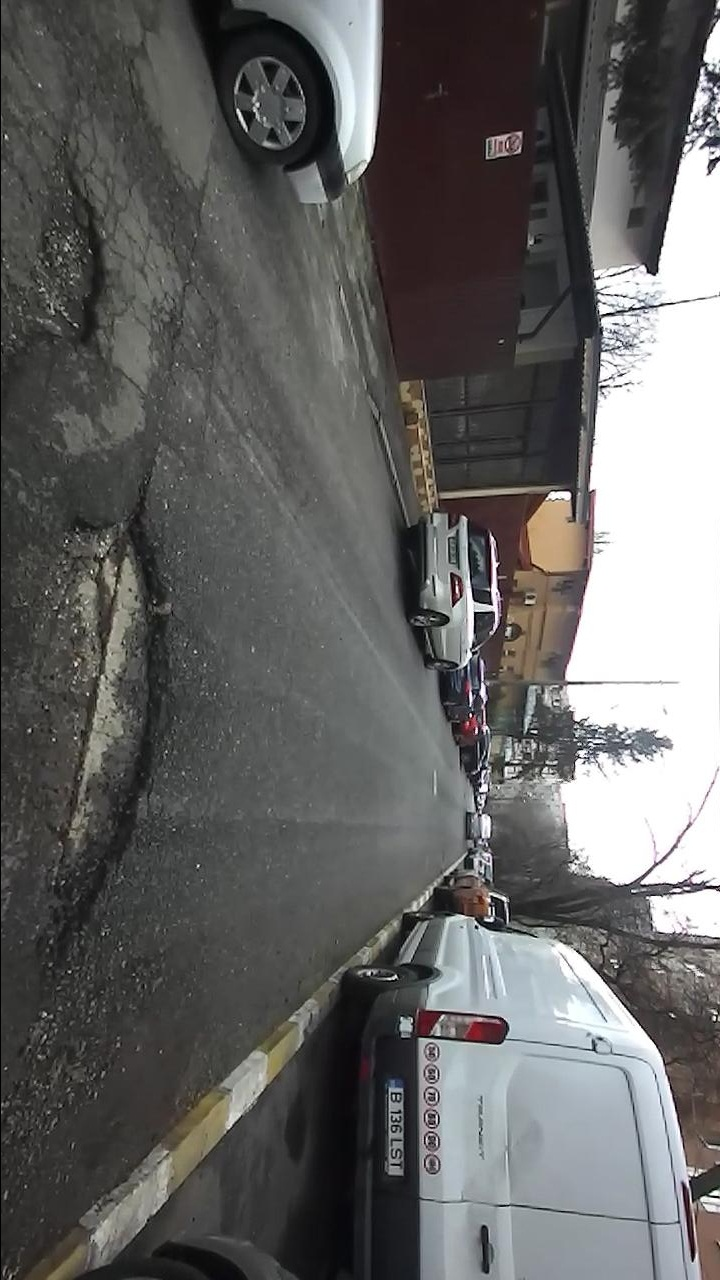pothole: (8, 466, 184, 999), (12, 147, 108, 374)
